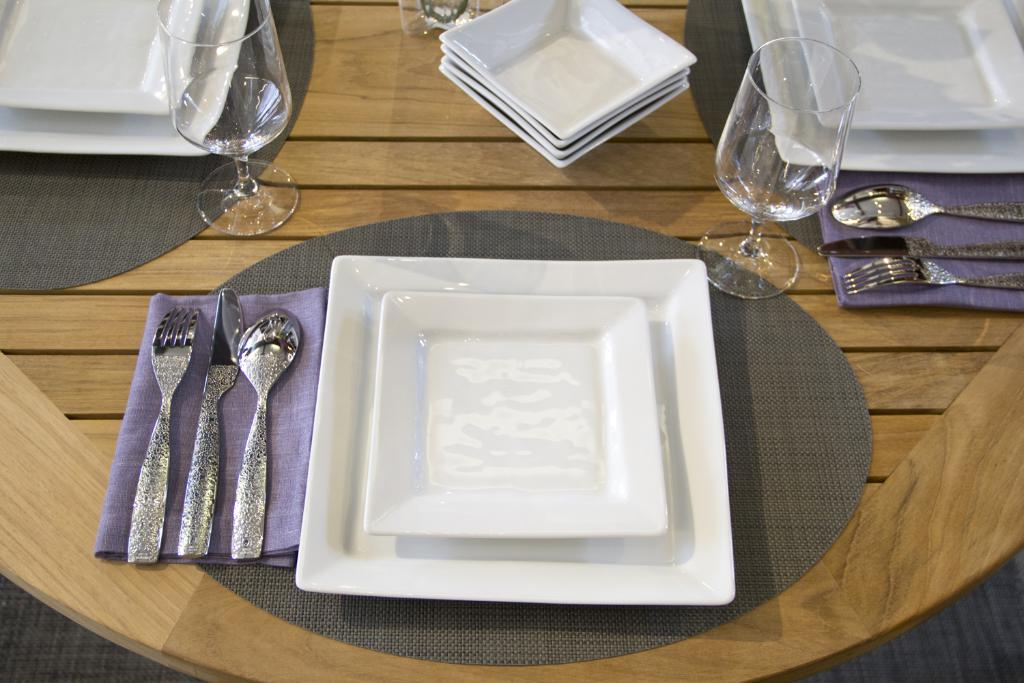plate: (358, 290, 669, 537)
